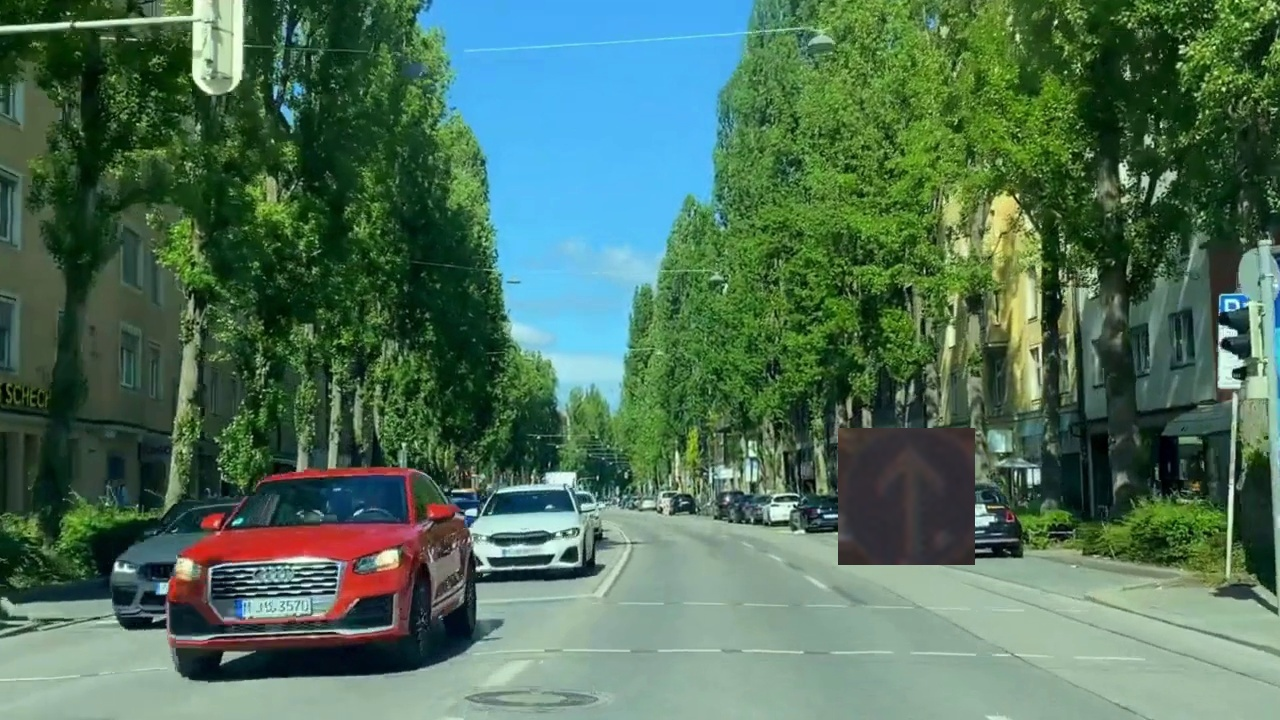Ahead only: (838, 428, 975, 565)
